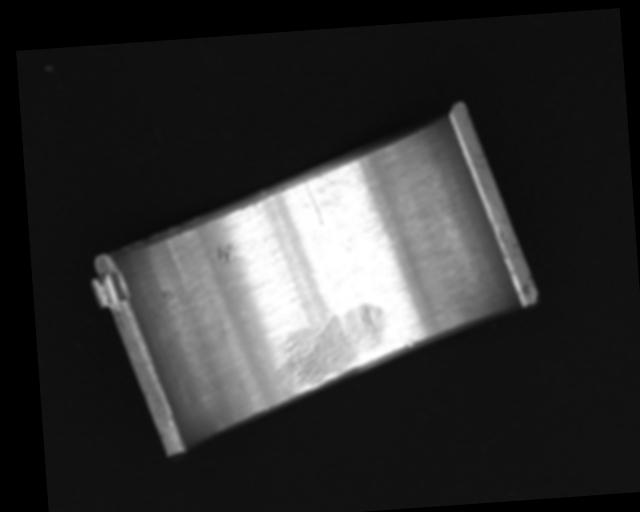bruise: (215, 241, 233, 264), (404, 338, 415, 348)
nick: (302, 177, 325, 227)
scratch: (271, 302, 392, 392)
